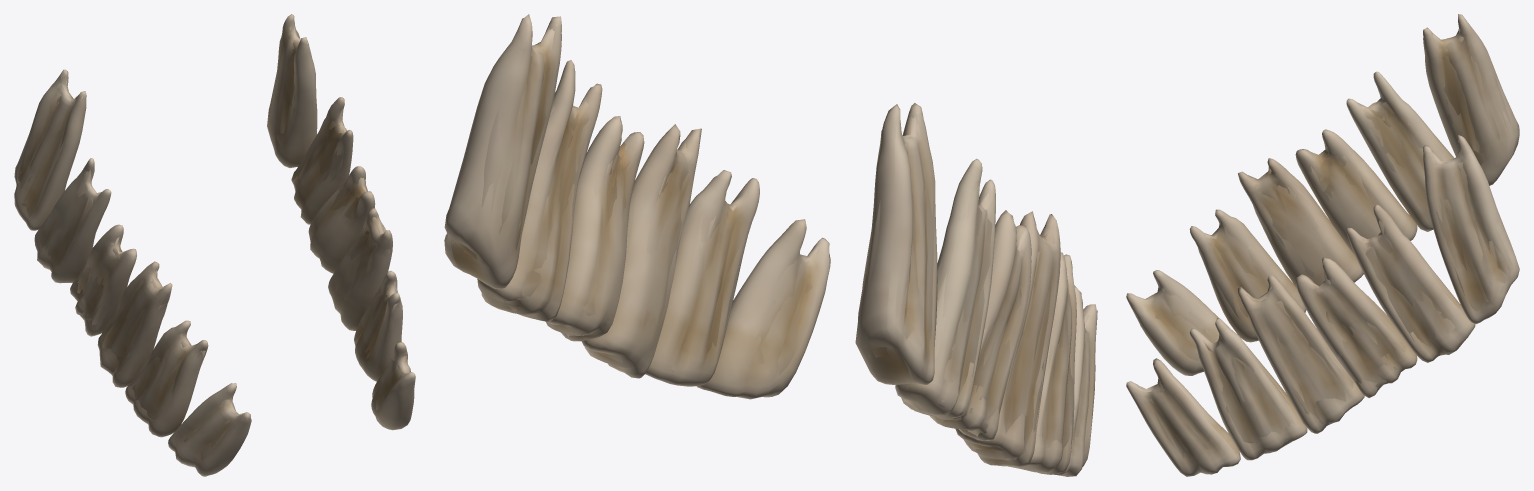
The model's file is Teeth Upper.fbx.
3 views of the same model, side by side, from view 1: azimuth 30°, elevation 25°; view 2: azimuth 150°, elevation 25°; view 3: azimuth 270°, elevation 25° (orthographic). The views are drawn at different scales.
Parts seen in each view (by area): view 1: Teeth Upper, Teeth Upper low; view 2: Teeth Upper, Teeth Upper low; view 3: Teeth Upper, Teeth Upper low.
Part boxes in pixels (x1,y1,x2,y2): Teeth Upper: (14,14,415,476); Teeth Upper low: (16,21,408,466); Teeth Upper: (444,14,1097,476); Teeth Upper low: (449,23,1088,470); Teeth Upper: (1126,14,1519,476); Teeth Upper low: (1135,28,1512,472).
Size of the model in its own units: 13.83 by 14.5 by 14.76.
Materials: 1 (1 with a texture image).
